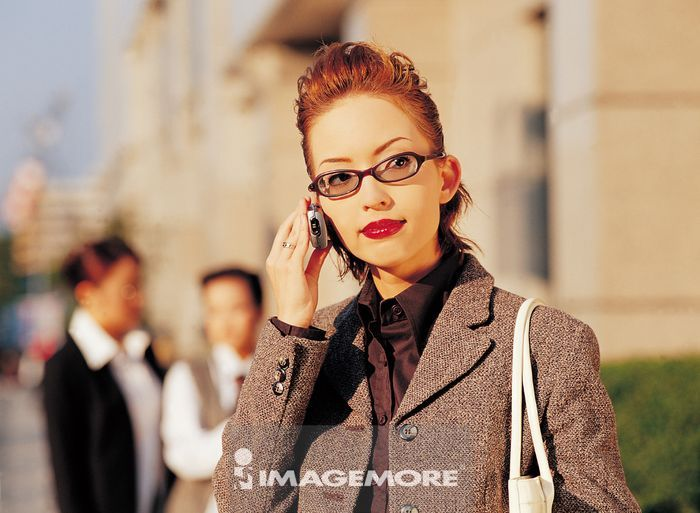talk: (267, 132, 428, 328)
